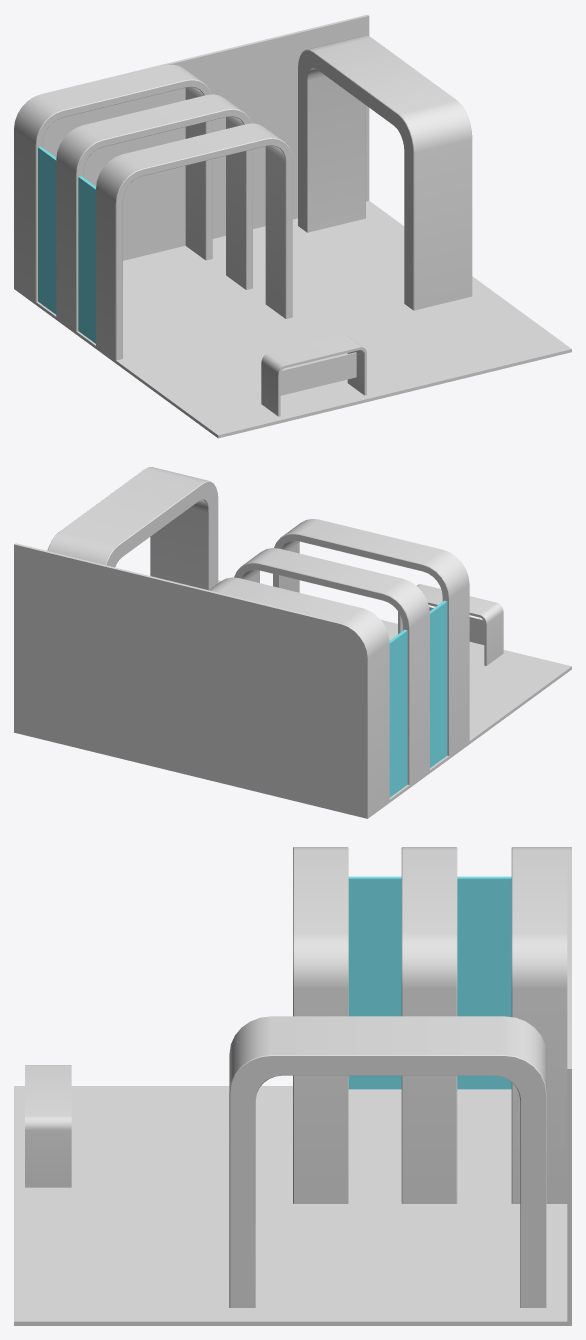
Rendered from Stand_17.fbx.
3 views of the same model, one above another, from view 1: azimuth 30°, elevation 25°; view 2: azimuth 150°, elevation 25°; view 3: azimuth 270°, elevation 25° (orthographic). The views are drawn at different scales.
Parts seen in each view (by area): view 1: Stand_17, Stand_17_Table; view 2: Stand_17, Stand_17_Table; view 3: Stand_17, Stand_17_Table.
Part boxes in pixels (x1,y1,x2,y2): Stand_17: (14, 14, 571, 438); Stand_17_Table: (261, 335, 366, 416); Stand_17: (14, 467, 571, 818); Stand_17_Table: (398, 584, 503, 665); Stand_17: (14, 847, 571, 1325); Stand_17_Table: (25, 1065, 71, 1187).
Bounding box in the file's own units: 600 × 305 × 600.
